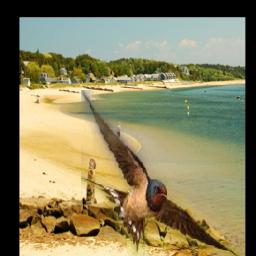Swallow: (80, 91, 238, 256)
